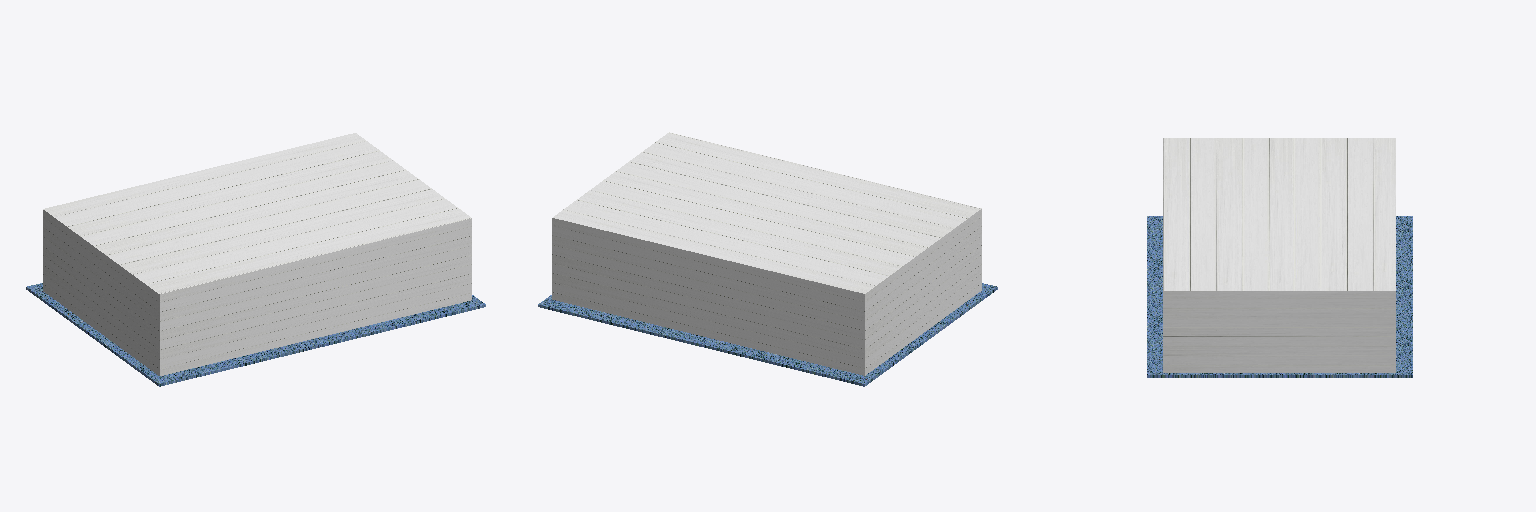
3 renders of one model, left to right at view 1: azimuth 30°, elevation 25°; view 2: azimuth 150°, elevation 25°; view 3: azimuth 270°, elevation 25°, orthographic.
Visible parts, largest first — view 1: Box001, Box007; view 2: Box001, Box007; view 3: Box001, Box007.
Part boxes in pixels (left/top/right/bottom): Box001: left=43, top=133, right=471, bottom=375; Box007: left=26, top=283, right=485, bottom=386; Box001: left=552, top=132, right=981, bottom=375; Box007: left=538, top=283, right=997, bottom=386; Box001: left=1163, top=138, right=1395, bottom=372; Box007: left=1147, top=216, right=1412, bottom=377.
Size of the model in its own units: 16.78 by 4.15 by 11.84.
Materials: 3 (2 with a texture image).